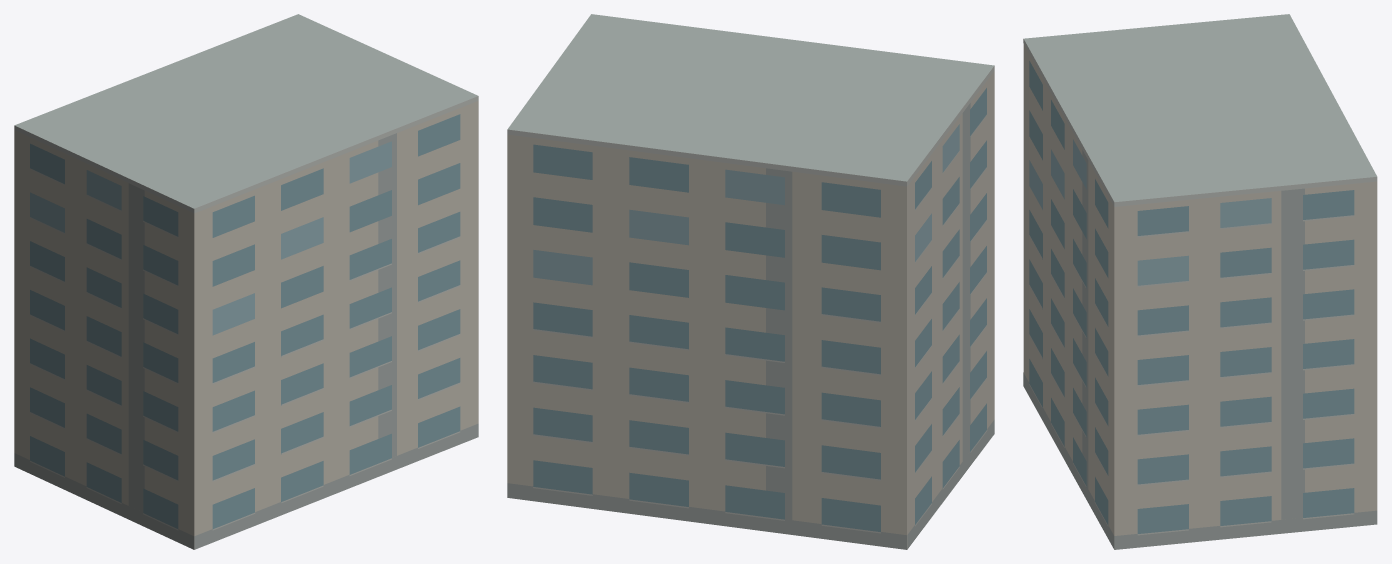
Rendered from survey-upis-32493045.glb.
3 renders of one model, left to right at view 1: azimuth 30°, elevation 25°; view 2: azimuth 150°, elevation 25°; view 3: azimuth 270°, elevation 25°, orthographic. The views are drawn at different scales.
Parts seen in each view (by area): view 1: survey-upis-32493045.tmp; view 2: survey-upis-32493045.tmp; view 3: survey-upis-32493045.tmp.
Part boxes in pixels (bbox=[...]): survey-upis-32493045.tmp: bbox=[14, 14, 478, 549]; survey-upis-32493045.tmp: bbox=[507, 14, 994, 549]; survey-upis-32493045.tmp: bbox=[1023, 14, 1377, 549].
Size of the model in its own units: 20.7 by 17.82 by 16.45.
